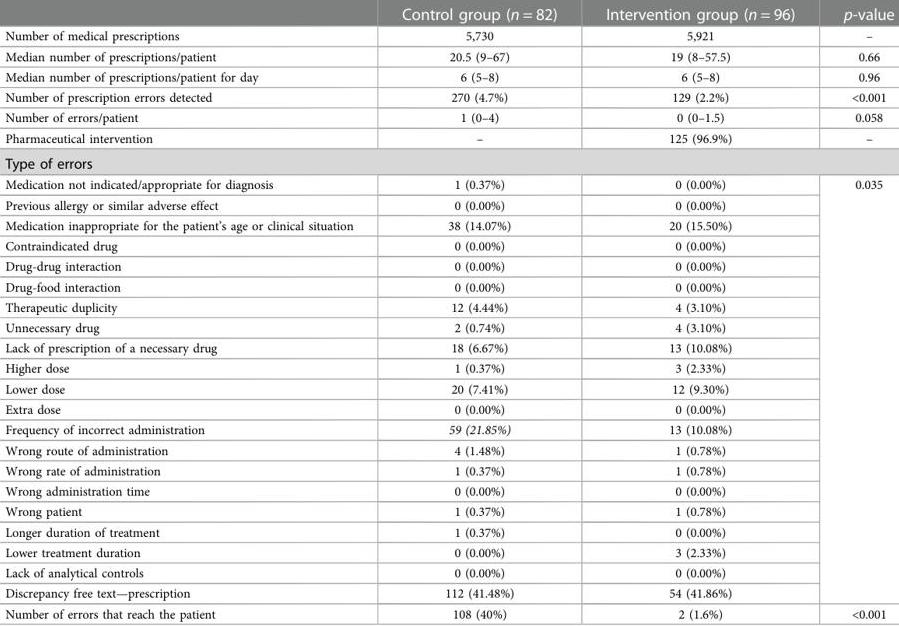table: (4, 4, 894, 620)
table column: (4, 4, 377, 620), (581, 4, 818, 620), (377, 4, 581, 620), (818, 4, 894, 620)
table column header: (4, 4, 894, 26)
table projected row header: (4, 150, 894, 174)
table row: (4, 150, 894, 174), (4, 127, 894, 150), (4, 4, 894, 26), (4, 66, 894, 87), (4, 194, 894, 215), (4, 235, 894, 256), (4, 296, 894, 317), (4, 337, 894, 358), (4, 378, 894, 399), (4, 439, 894, 460), (4, 480, 894, 501), (4, 521, 894, 542), (4, 582, 894, 603), (4, 26, 894, 46), (4, 46, 894, 66), (4, 87, 894, 107), (4, 107, 894, 127), (4, 174, 894, 194), (4, 215, 894, 235), (4, 256, 894, 276), (4, 276, 894, 296), (4, 317, 894, 337), (4, 358, 894, 378), (4, 399, 894, 419), (4, 419, 894, 439), (4, 460, 894, 480), (4, 501, 894, 521), (4, 542, 894, 562), (4, 562, 894, 582), (4, 603, 894, 620)
table spanning cell: (818, 174, 894, 603)
